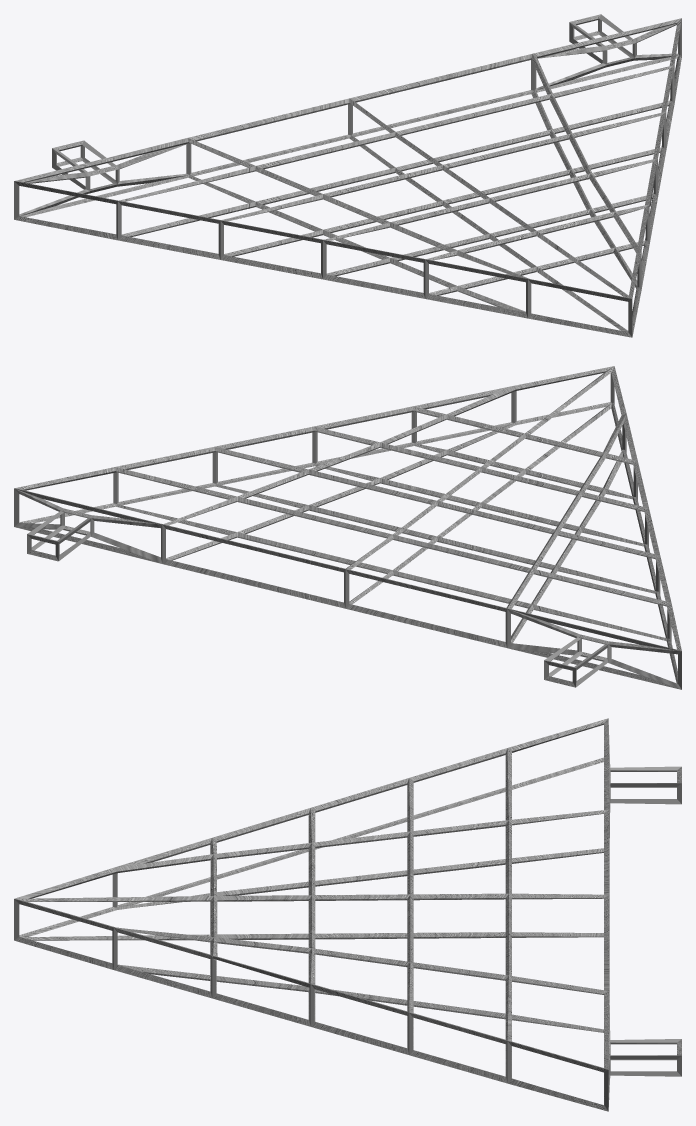
Rendered from FBX_SolarPanelTriangleWireframe.fbx.
3 renders of one model, top to bottom at view 1: azimuth 30°, elevation 25°; view 2: azimuth 150°, elevation 25°; view 3: azimuth 270°, elevation 25°, orthographic. The views are drawn at different scales.
Parts seen in each view (by area): view 1: Triangle Panel support Wireframe; view 2: Triangle Panel support Wireframe; view 3: Triangle Panel support Wireframe.
Boxes of the visible parts, left/top/right/bottom form: Triangle Panel support Wireframe: left=14, top=14, right=681, bottom=337; Triangle Panel support Wireframe: left=14, top=366, right=681, bottom=689; Triangle Panel support Wireframe: left=14, top=718, right=681, bottom=1111.
Bounding box in the file's own units: 3.1 × 2.49 × 0.1821.
